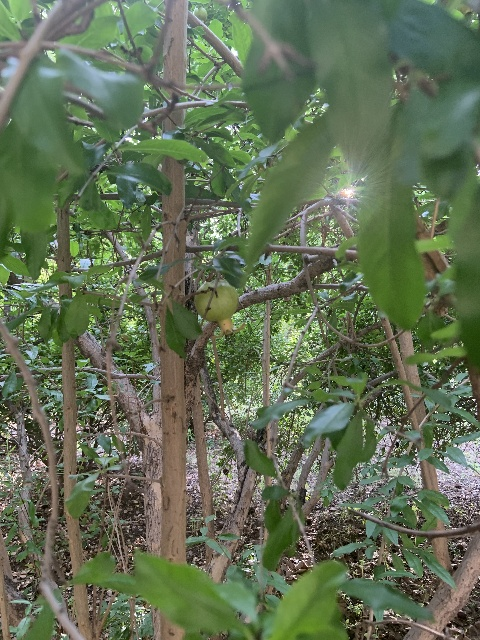mid-growth: (194, 279, 246, 337), (193, 7, 207, 24)
